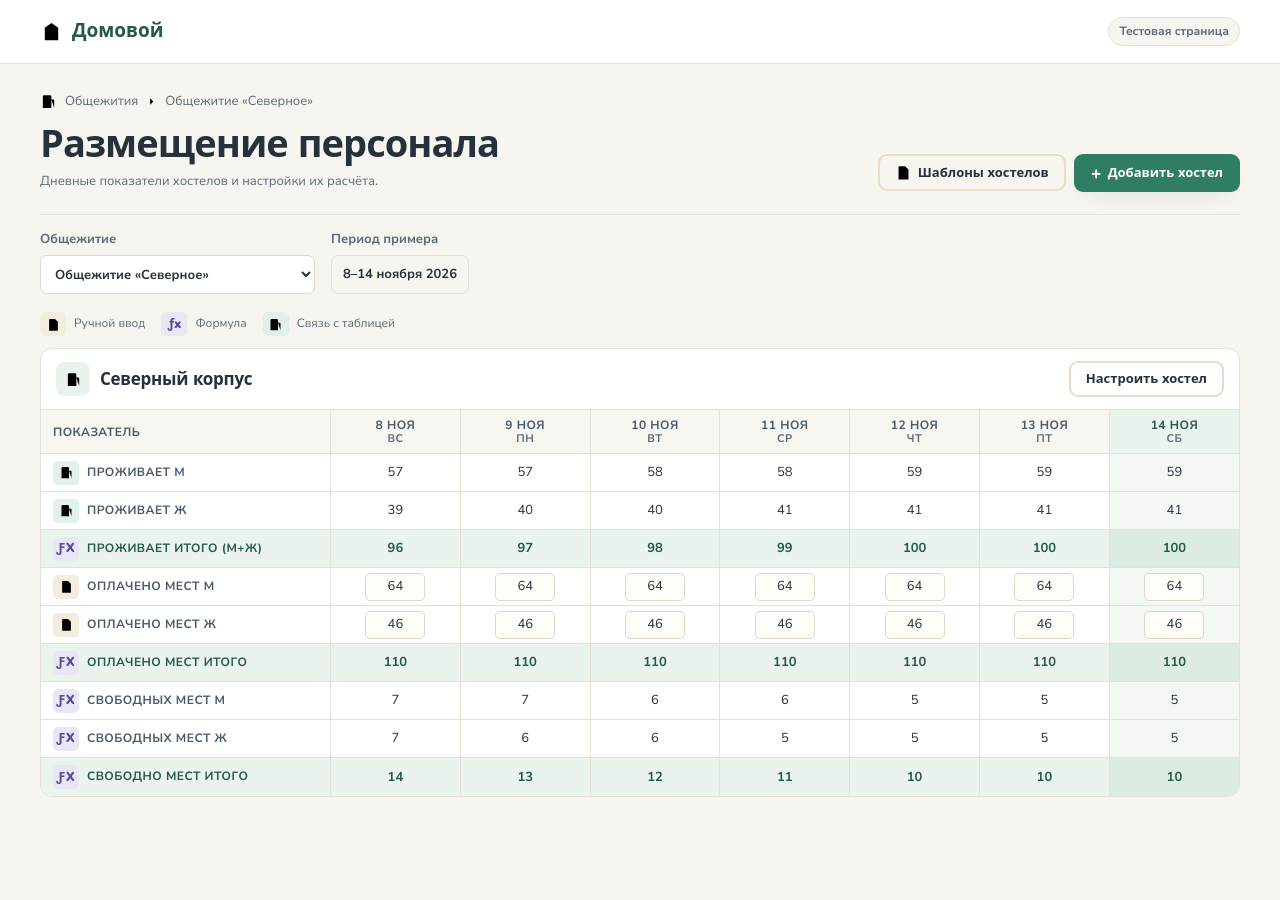
Scenario: показывает зависимую строку при удалении источника формулы
This screenshot has width=1280, height=900.
Click the button "Настроить хостел": (1146, 379) x1=1069 y1=361 x2=1224 y2=397
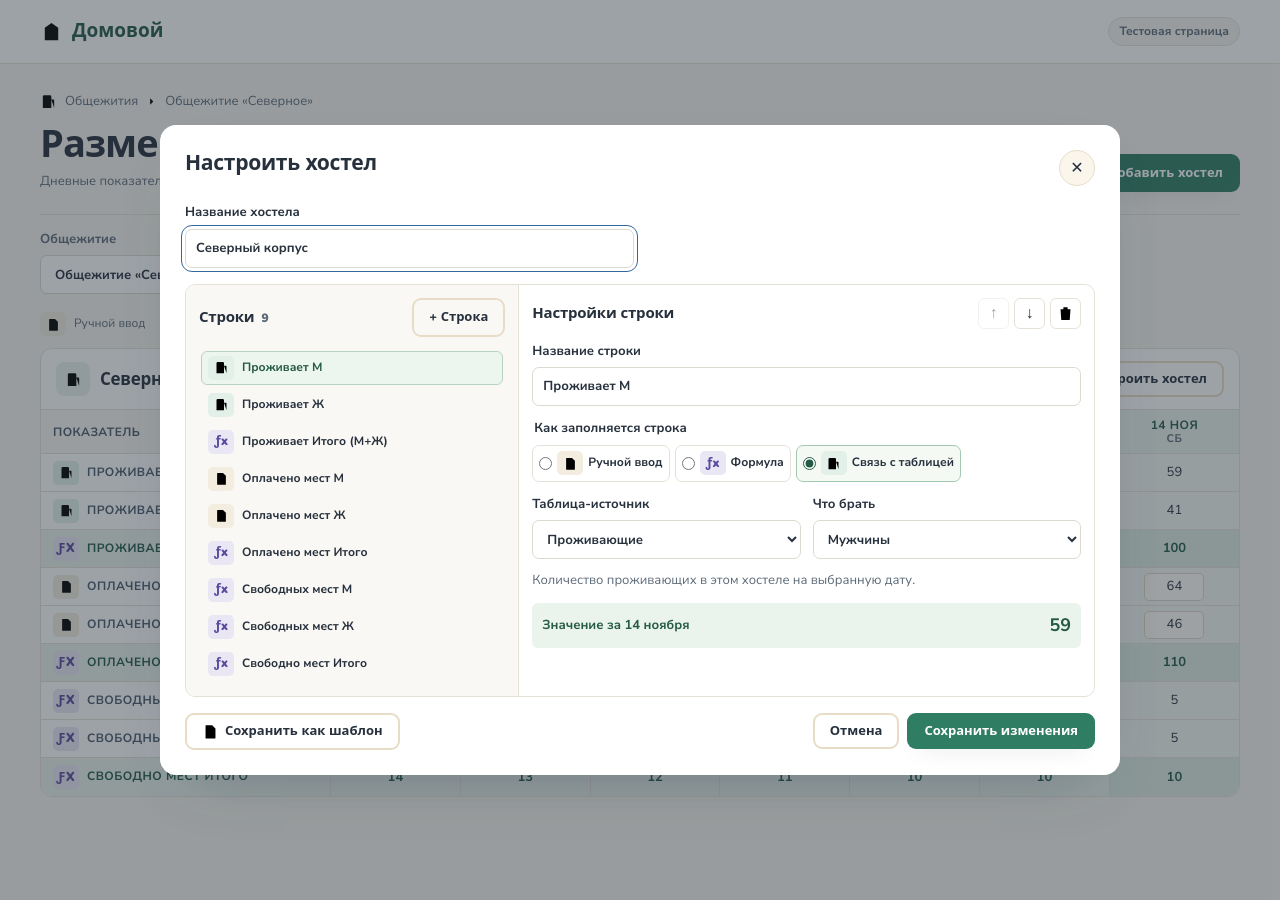
Click the button named "Убрать строку": (1066, 313) x1=1050 y1=298 x2=1081 y2=329
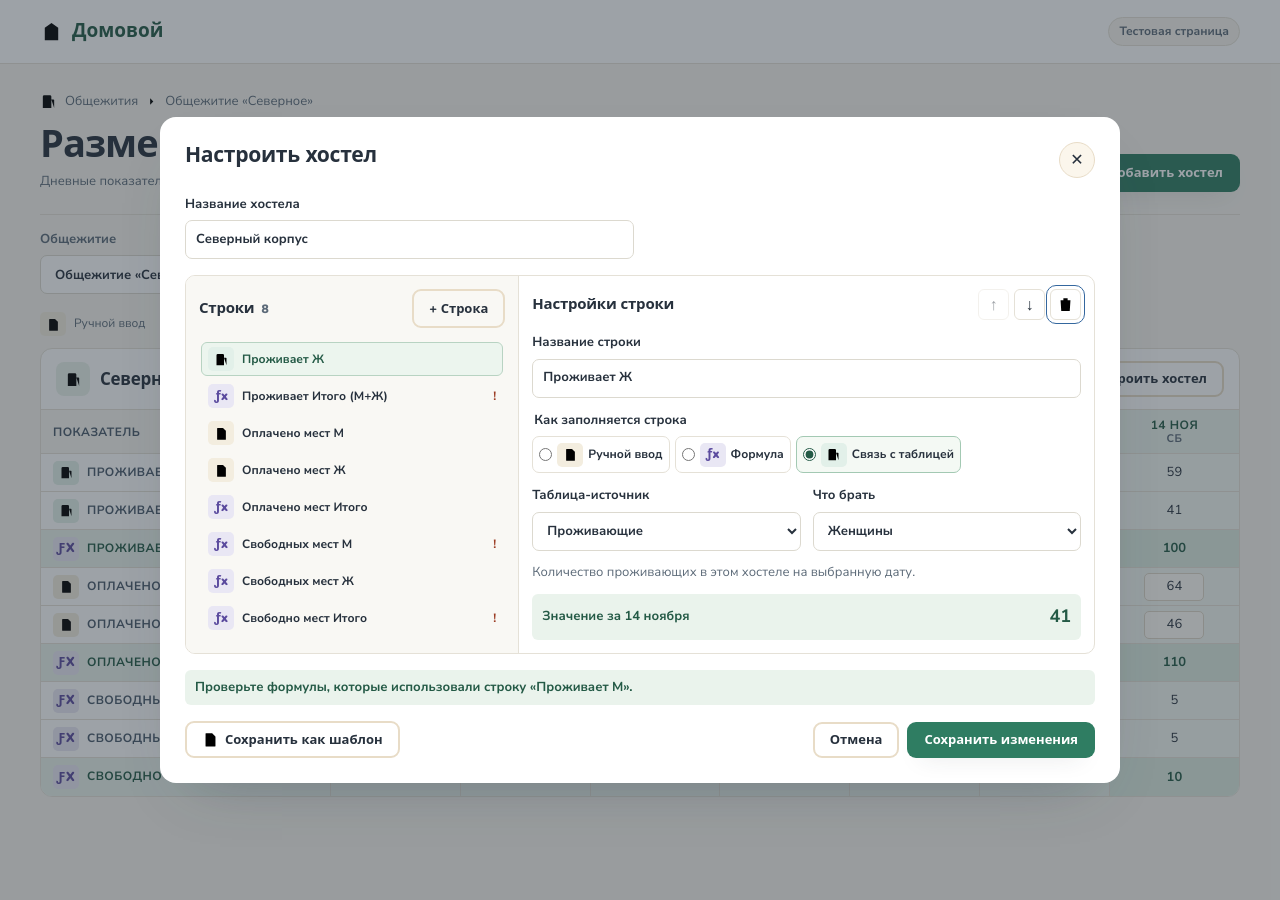
Click the button "Сохранить изменения": (1001, 740) x1=907 y1=722 x2=1095 y2=758
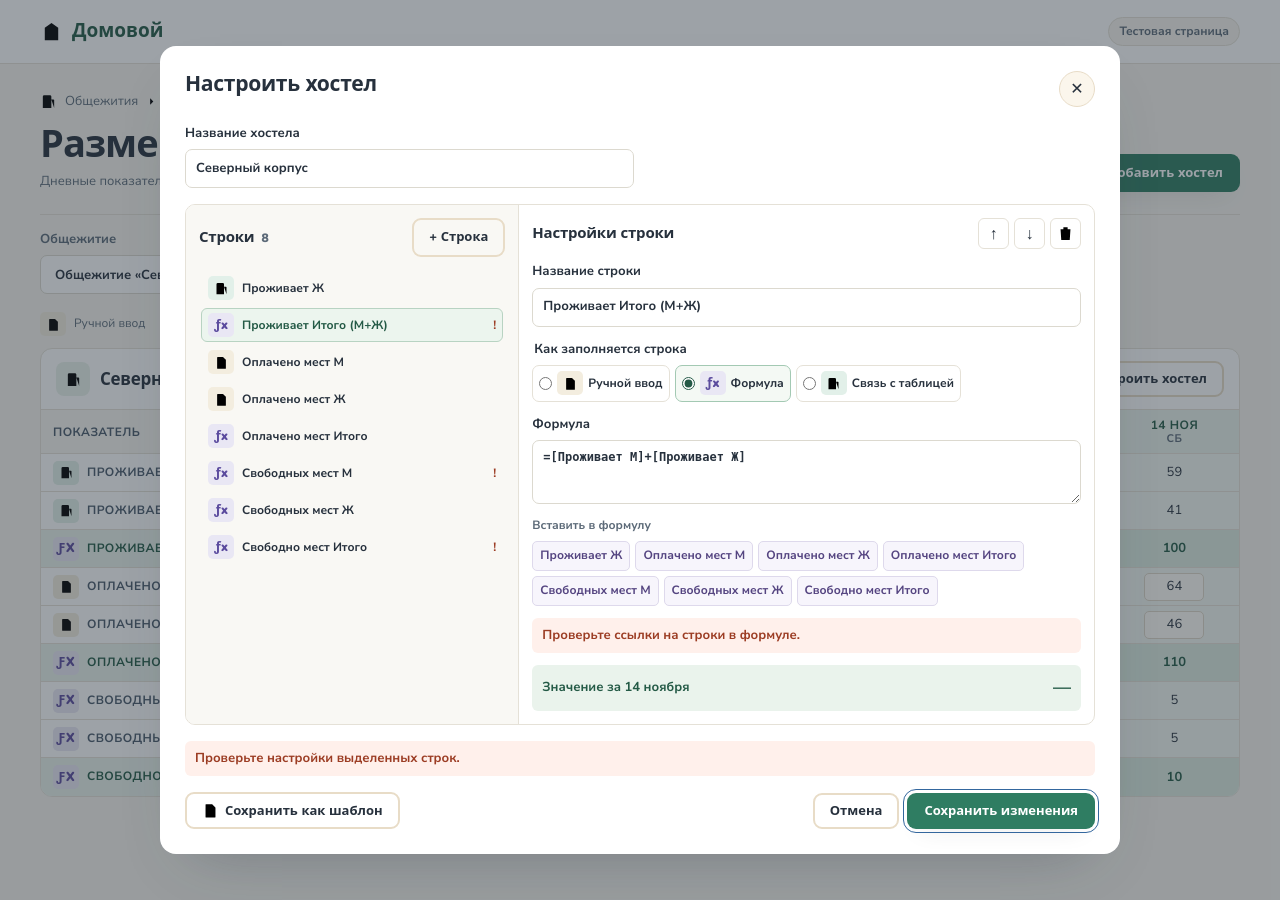
Now the text "Проверьте ссылки на строки в формуле." is shown, box x1=532 y1=618 x2=1081 y2=653
